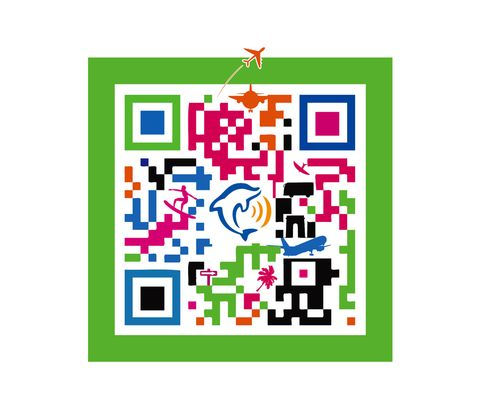QRCode: (117, 89, 360, 331)
